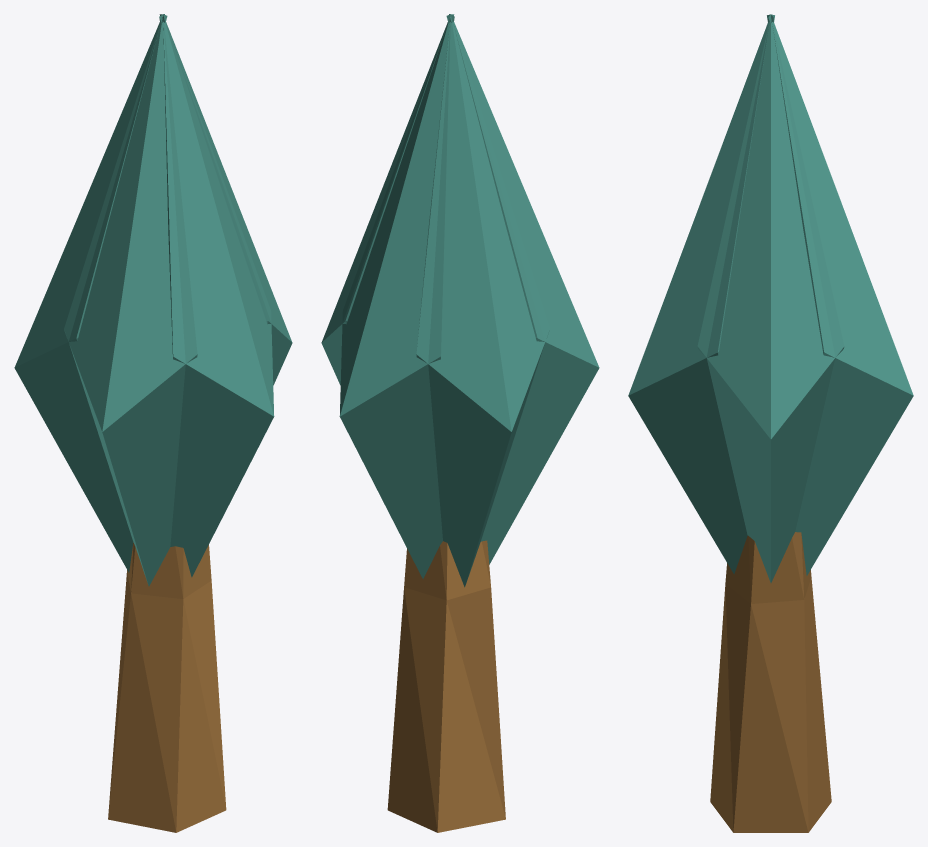
3 renders of one model, left to right at view 1: azimuth 30°, elevation 25°; view 2: azimuth 150°, elevation 25°; view 3: azimuth 270°, elevation 25°, orthographic.
Visible parts, largest first — view 1: Tree_Poplar_A_Geometry; view 2: Tree_Poplar_A_Geometry; view 3: Tree_Poplar_A_Geometry.
Part boxes in pixels (box(x1,y1,x2,y2)): Tree_Poplar_A_Geometry: box(14, 14, 292, 832); Tree_Poplar_A_Geometry: box(321, 14, 599, 832); Tree_Poplar_A_Geometry: box(628, 14, 913, 832).
Bounding box in the file's own units: 0.865 × 2.8 × 0.9095.
